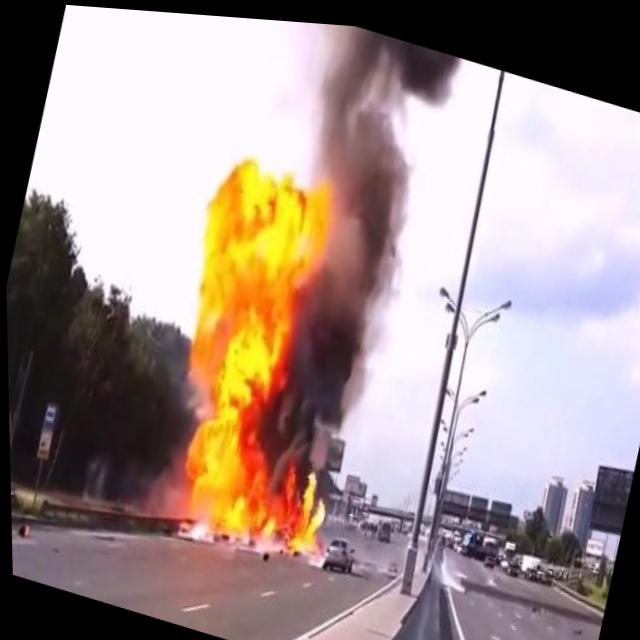fire: (118, 126, 408, 569)
